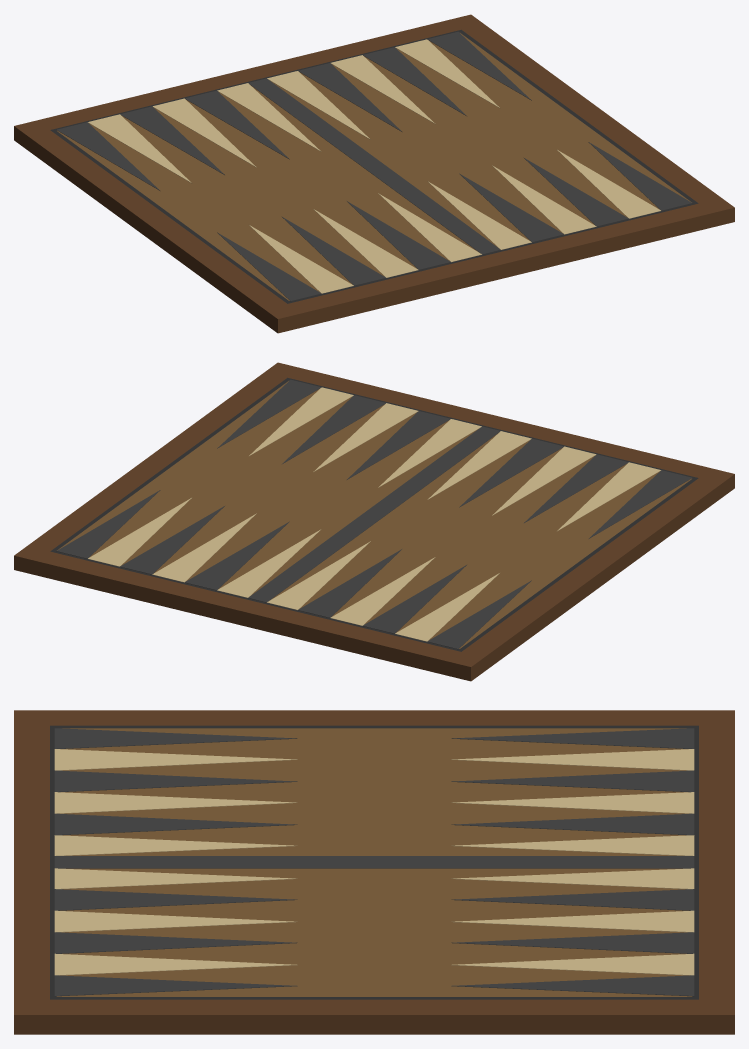
The model's file is Backgammon Board.fbx.
3 renders of one model, top to bottom at view 1: azimuth 30°, elevation 25°; view 2: azimuth 150°, elevation 25°; view 3: azimuth 270°, elevation 25°, orthographic. The views are drawn at different scales.
Visible parts, largest first — view 1: Backgammon Board; view 2: Backgammon Board; view 3: Backgammon Board.
Part boxes in pixels (x1=…): Backgammon Board: x1=14, y1=14, x2=734, y2=333; Backgammon Board: x1=14, y1=362, x2=734, y2=681; Backgammon Board: x1=14, y1=710, x2=734, y2=1034.
Bounding box in the file's own units: 340 × 10.5 × 340.
